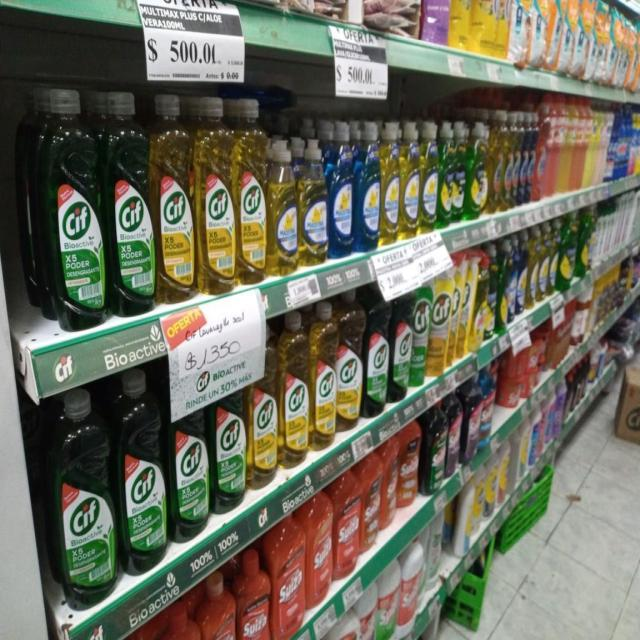ala_conc_amarillo: (489, 110, 504, 214), (503, 109, 515, 212)
cif_conc_bot_amarilla: (154, 92, 194, 304), (195, 96, 234, 294), (235, 98, 267, 286), (280, 308, 310, 469), (249, 324, 278, 488), (311, 301, 336, 452), (337, 290, 363, 433)
cif_conc_botella_verde: (39, 87, 105, 331), (52, 388, 116, 608), (107, 89, 154, 316), (119, 370, 168, 574), (170, 400, 209, 542), (211, 376, 247, 514), (365, 284, 389, 417)
magistral_con_amarillo: (268, 137, 298, 277), (299, 136, 328, 268), (380, 119, 400, 246), (400, 119, 419, 240), (420, 120, 438, 233), (538, 224, 549, 304), (528, 226, 538, 308)
magistral_con_azul: (329, 120, 353, 260), (355, 120, 380, 253)
